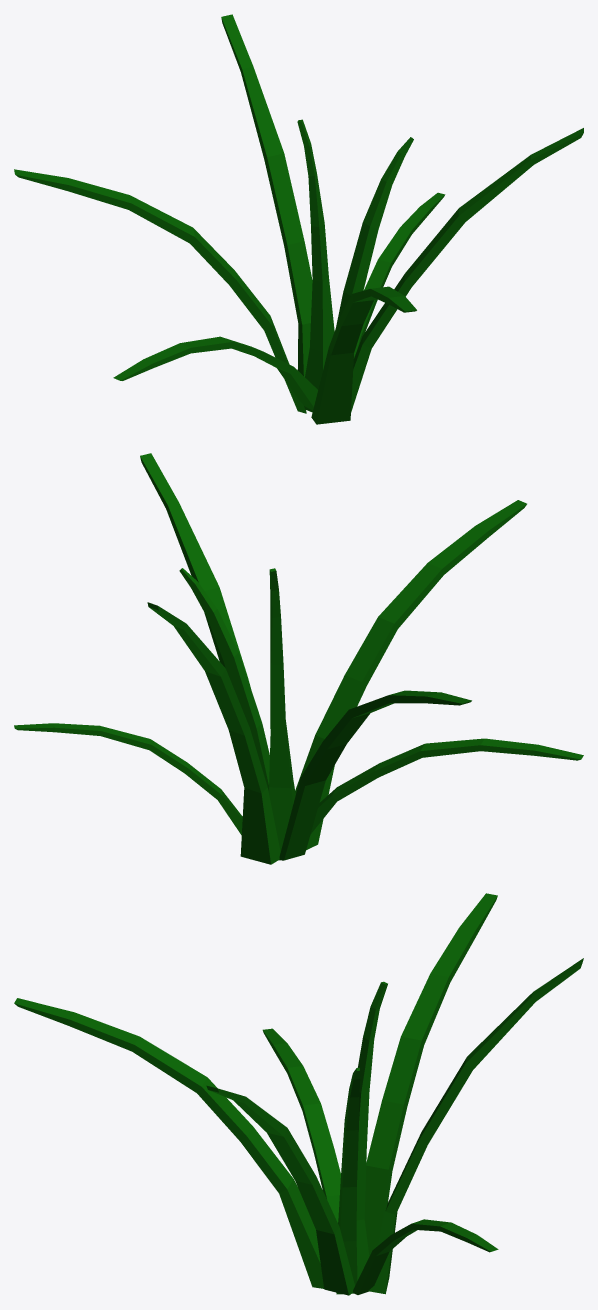
The model's file is Grass_02.fbx.
3 renders of one model, top to bottom at view 1: azimuth 30°, elevation 25°; view 2: azimuth 150°, elevation 25°; view 3: azimuth 270°, elevation 25°, orthographic. The views are drawn at different scales.
Visible parts, largest first — view 1: Grass_02; view 2: Grass_02; view 3: Grass_02.
Part boxes in pixels (<box>): Grass_02: <box>14,14,583,424</box>; Grass_02: <box>14,453,583,864</box>; Grass_02: <box>14,893,583,1295</box>.
Bounding box in the file's own units: 2.64 × 1.78 × 2.77.
Materials: 1 (1 with a texture image).
